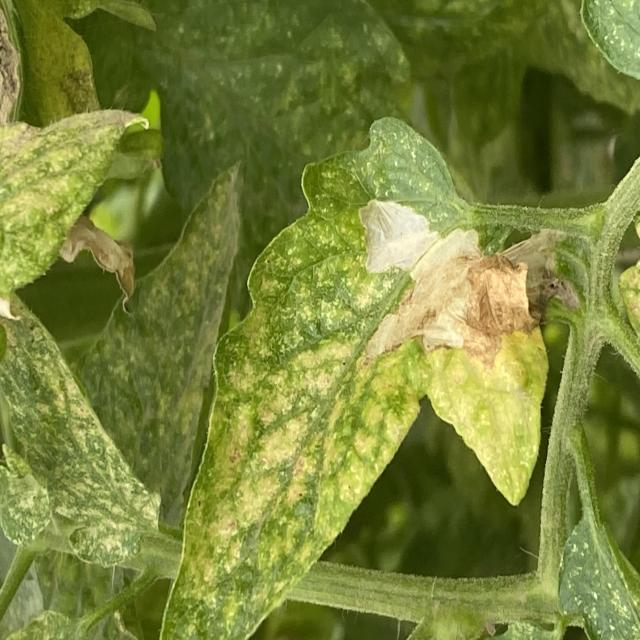Tuta absoluta: (352, 198, 443, 279)
